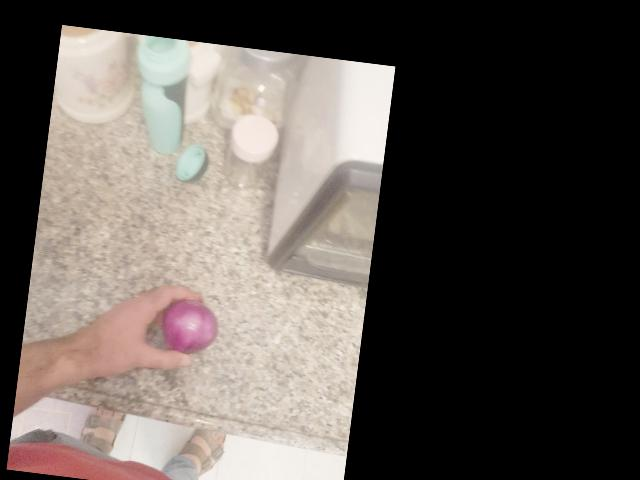onion: (157, 297, 217, 357)
